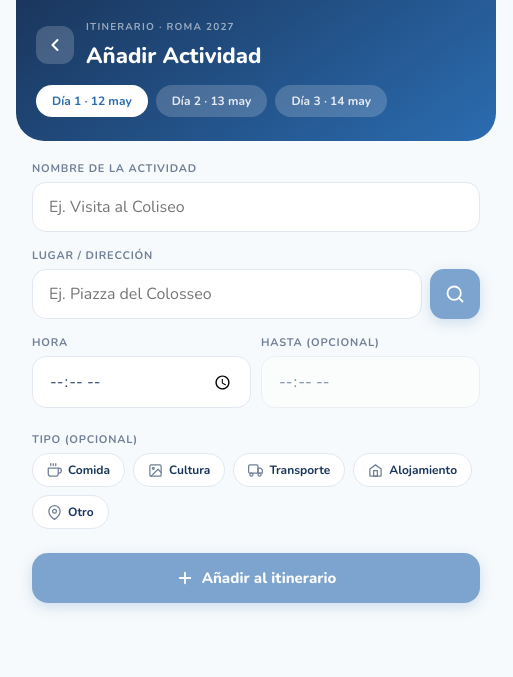
Test case: AnadirActividad · buscador de direcciones › si la búsqueda falla sin ser un error del servidor muestra un mensaje genérico
Type "Colosseo" into the field labelled "Lugar / Dirección" at (227, 294), box [32, 269, 422, 319]
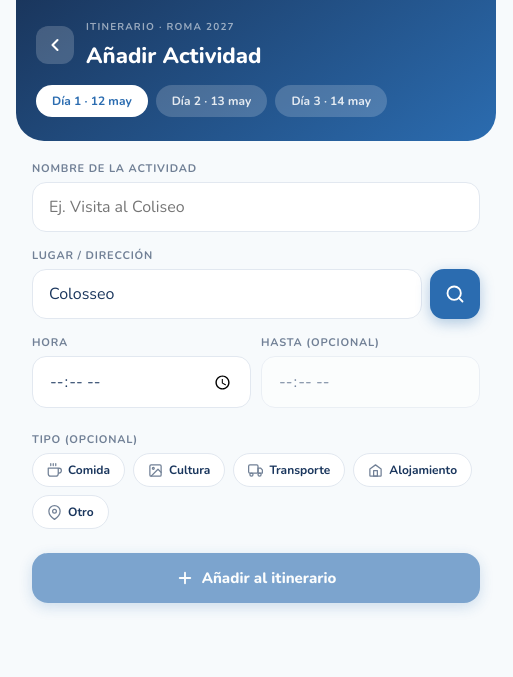
Click the button named "Buscar dirección" at (455, 294), box [430, 269, 480, 319]
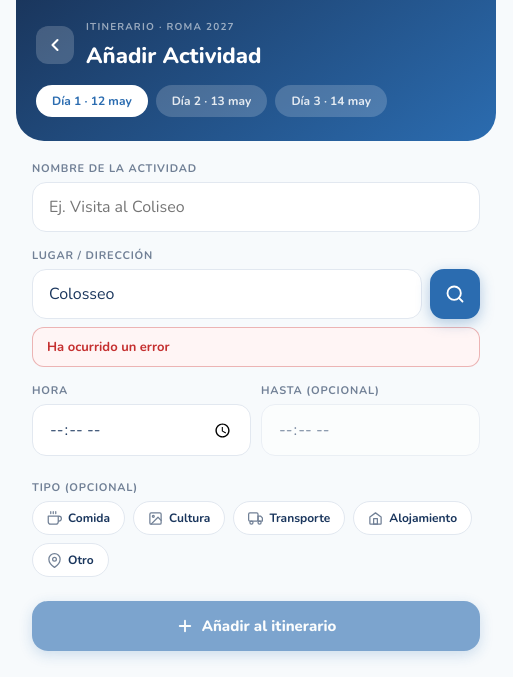
Expected: the message reads "Ha ocurrido un error", [47, 338, 170, 356]
